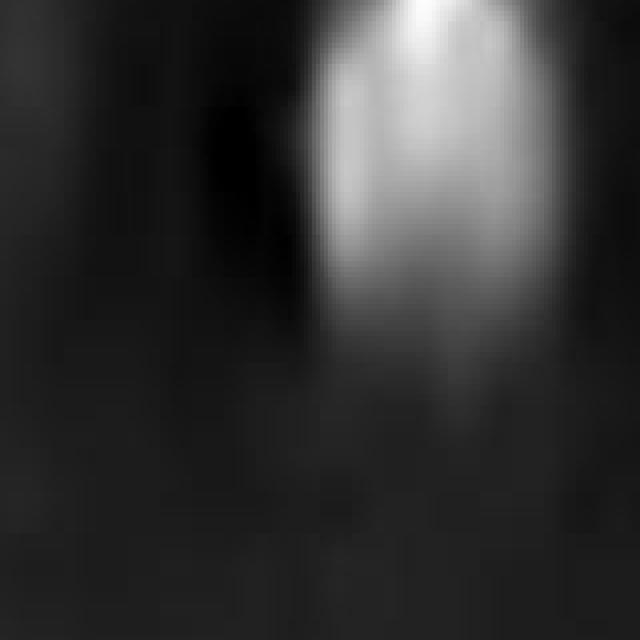person: (289, 1, 561, 390)
